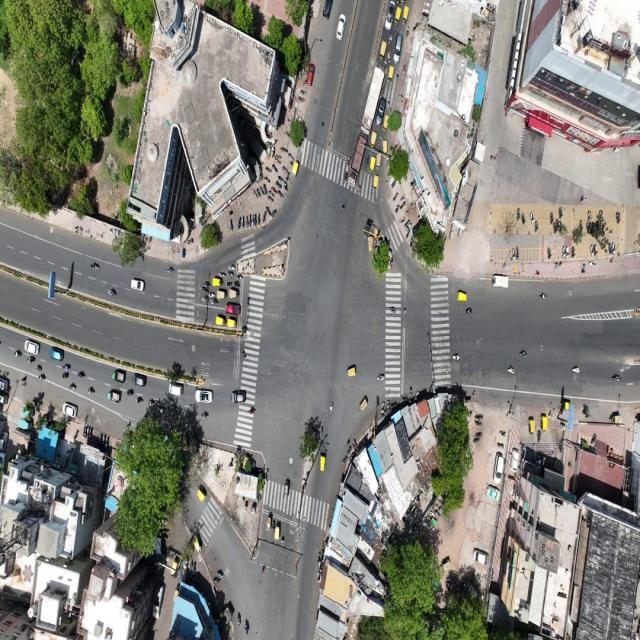3W: (109, 366, 126, 385), (344, 361, 360, 379), (106, 389, 121, 408), (190, 531, 202, 554), (291, 160, 303, 183), (451, 290, 471, 302), (282, 476, 292, 499), (195, 484, 206, 504), (317, 453, 327, 475), (357, 395, 369, 413), (528, 411, 536, 438), (394, 4, 402, 30), (541, 412, 550, 435), (275, 518, 283, 543), (378, 38, 386, 63), (226, 317, 240, 331), (265, 509, 273, 532), (362, 220, 372, 236), (370, 129, 377, 151), (373, 173, 380, 195), (383, 136, 389, 160), (367, 235, 374, 255), (229, 289, 241, 300), (403, 6, 409, 27), (369, 156, 376, 174), (377, 151, 383, 172), (214, 316, 226, 326), (212, 278, 223, 288), (216, 290, 228, 299), (388, 67, 394, 85), (384, 116, 390, 133)
Cars: (486, 452, 507, 487), (471, 543, 490, 569), (489, 272, 511, 291), (194, 386, 214, 406), (302, 62, 318, 87), (23, 335, 42, 355), (61, 401, 80, 421), (47, 343, 66, 362), (228, 387, 248, 405), (383, 1, 394, 32), (376, 97, 385, 133), (224, 301, 244, 317), (393, 34, 403, 66), (168, 382, 185, 399), (132, 371, 148, 389), (337, 12, 346, 44), (129, 278, 146, 294)
M2W: (88, 258, 102, 274), (388, 297, 397, 320), (375, 370, 388, 385), (505, 363, 517, 378), (571, 362, 582, 377), (611, 369, 622, 384), (450, 351, 463, 363), (199, 409, 211, 421), (518, 348, 529, 361), (247, 404, 257, 418), (538, 290, 549, 302), (75, 369, 86, 381), (107, 284, 117, 297), (87, 384, 97, 397), (68, 382, 78, 395), (340, 201, 350, 214), (14, 347, 23, 361), (216, 570, 226, 582), (561, 242, 567, 262), (235, 609, 241, 628), (559, 204, 566, 220), (394, 67, 401, 83), (498, 427, 508, 438), (166, 264, 176, 275), (243, 616, 249, 634), (465, 305, 474, 317), (474, 429, 486, 438), (528, 211, 535, 226), (404, 24, 410, 41), (61, 362, 71, 372), (217, 268, 227, 278), (34, 362, 43, 373), (546, 248, 553, 262), (548, 210, 555, 224), (521, 212, 527, 228), (588, 244, 595, 257), (346, 152, 353, 165), (475, 418, 484, 428), (496, 441, 506, 450), (510, 246, 516, 261), (515, 247, 521, 262), (586, 207, 592, 222), (38, 374, 47, 384), (60, 372, 70, 381), (227, 262, 237, 271), (386, 95, 391, 113), (232, 281, 243, 289), (537, 427, 542, 444), (535, 219, 540, 236), (259, 184, 265, 198), (280, 144, 289, 153), (329, 401, 334, 417), (615, 211, 621, 224), (251, 190, 257, 203), (387, 34, 393, 47), (380, 83, 386, 96), (357, 183, 363, 196), (475, 412, 486, 419), (201, 293, 208, 304), (257, 212, 261, 231), (365, 152, 369, 171), (229, 217, 233, 235), (263, 210, 267, 228), (297, 96, 306, 104), (343, 170, 349, 182), (26, 355, 36, 362), (289, 151, 295, 162), (394, 204, 400, 215), (284, 181, 289, 194), (387, 53, 392, 66), (211, 300, 220, 307), (237, 272, 244, 281), (225, 281, 234, 288), (278, 175, 287, 182), (275, 180, 282, 189), (284, 117, 293, 124), (283, 131, 292, 138), (399, 192, 406, 201), (517, 204, 520, 224), (571, 245, 575, 260), (238, 213, 241, 233), (242, 213, 245, 233), (249, 213, 252, 233), (273, 162, 278, 174), (265, 174, 271, 184), (282, 163, 288, 173), (271, 185, 277, 195), (279, 190, 285, 200), (393, 190, 398, 202), (203, 280, 211, 287), (227, 272, 235, 279), (265, 165, 272, 173), (404, 230, 411, 238), (246, 214, 249, 232), (252, 214, 255, 232), (273, 155, 282, 161), (407, 219, 413, 228), (613, 241, 617, 254), (383, 58, 387, 71), (208, 292, 215, 299), (300, 89, 307, 96), (378, 136, 382, 148), (401, 214, 406, 223), (267, 196, 273, 203)
Truck: (355, 68, 389, 132), (343, 133, 369, 197)
